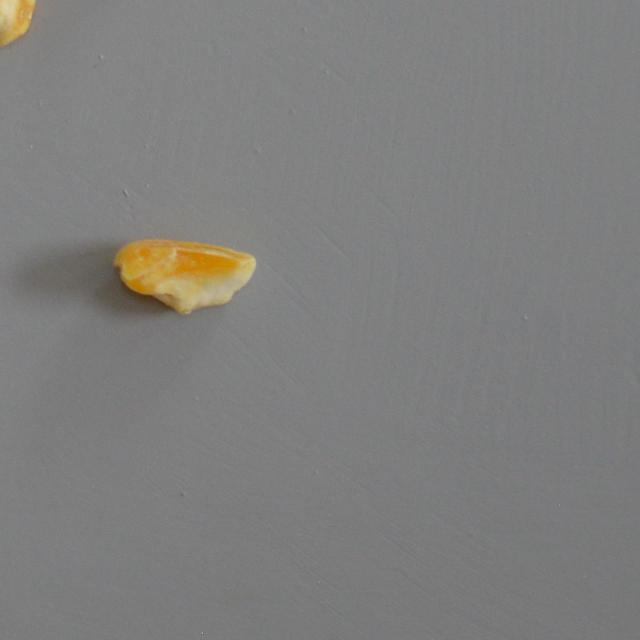estandar: (0, 0, 42, 48)
pelicula: (110, 238, 258, 316)
